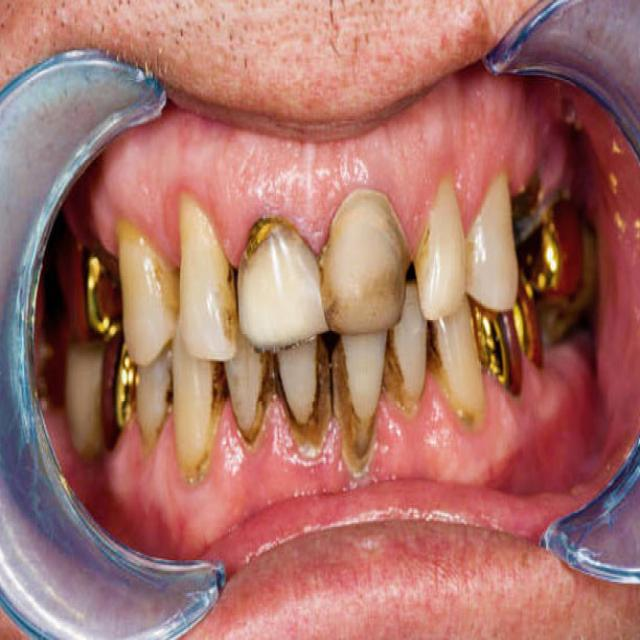caries: (504, 168, 548, 229)
